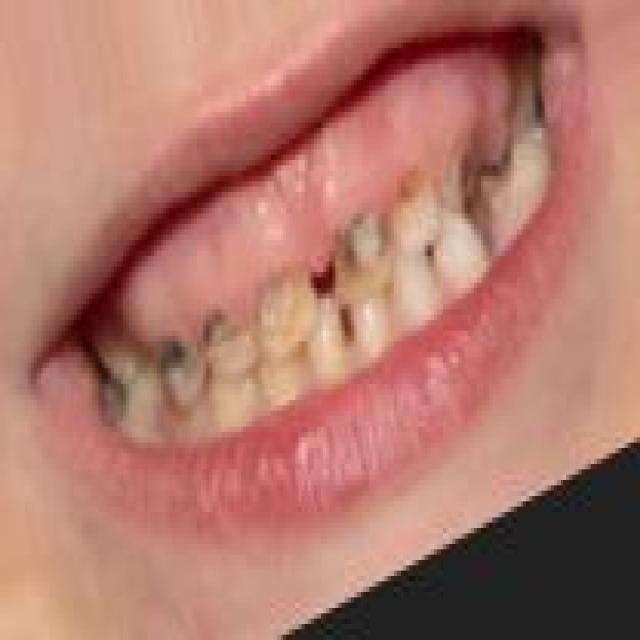caries: (321, 211, 395, 306), (255, 266, 317, 354), (454, 124, 515, 208), (198, 302, 252, 384), (396, 162, 444, 254), (159, 333, 209, 418)
